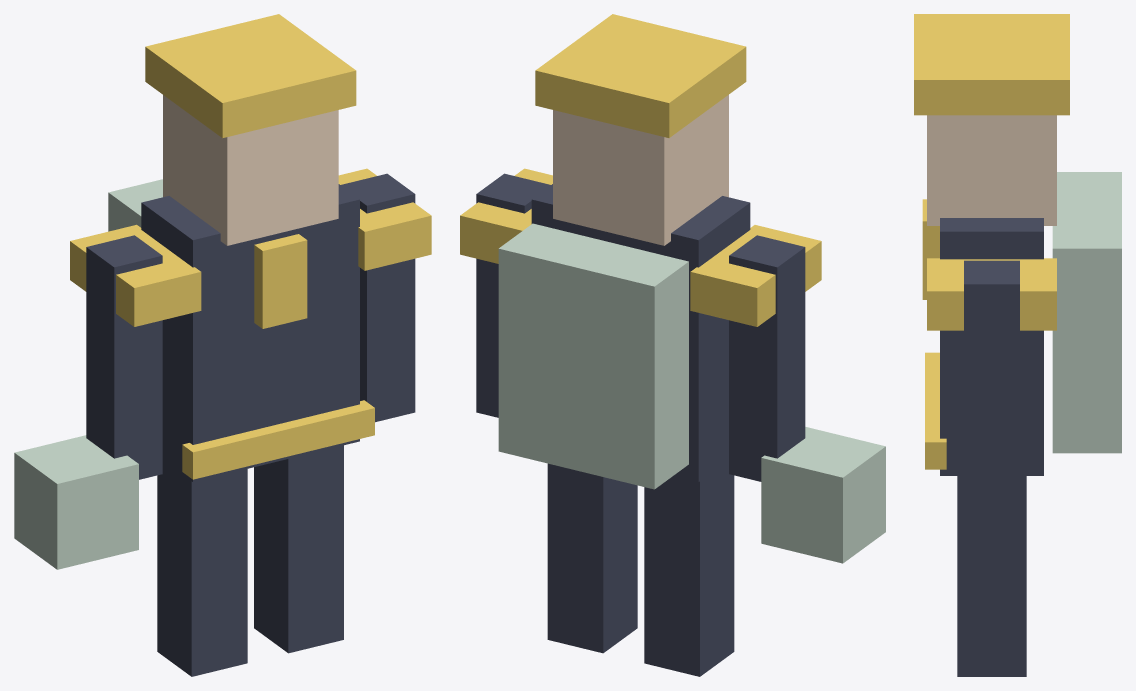
The model's file is 01_pax_runeclasp_runner_from_turret.glb.
3 renders of one model, left to right at view 1: azimuth 30°, elevation 25°; view 2: azimuth 150°, elevation 25°; view 3: azimuth 270°, elevation 25°, orthographic.
Parts seen in each view (by area): view 1: Pax Runeclasp, Runner from Turret; view 2: Pax Runeclasp, Runner from Turret; view 3: Pax Runeclasp, Runner from Turret.
Part boxes in pixels (box(x1,y1,x2,y2)): Pax Runeclasp, Runner from Turret: box(14, 14, 431, 676); Pax Runeclasp, Runner from Turret: box(460, 14, 885, 676); Pax Runeclasp, Runner from Turret: box(914, 14, 1121, 676).
Size of the model in its own units: 1 by 1.52 by 0.4846.
